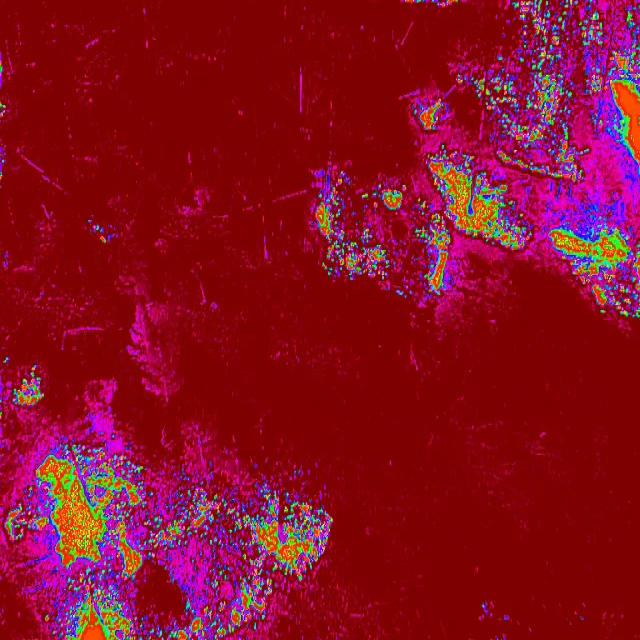fire: (0, 439, 269, 640), (503, 0, 640, 254), (410, 59, 502, 302), (310, 163, 409, 297), (268, 482, 332, 588), (565, 254, 640, 322), (4, 368, 48, 418)
